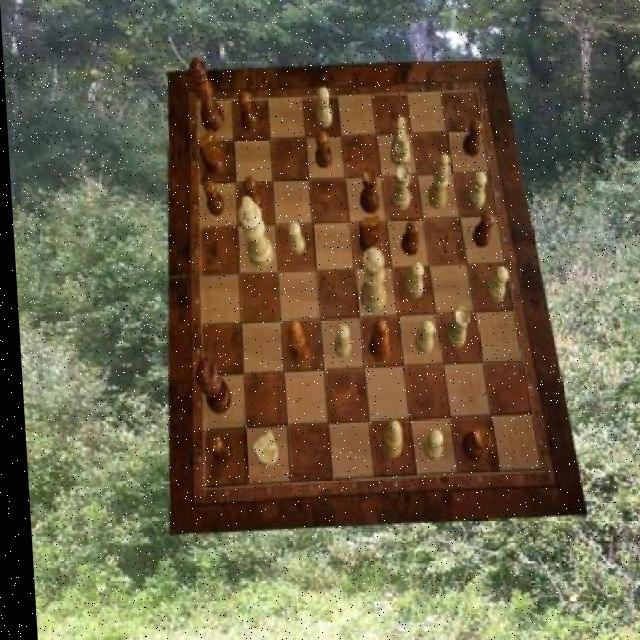bishop: (284, 318, 306, 364), (364, 318, 386, 361)
black-bishop: (191, 357, 227, 415)
black-king: (195, 130, 222, 176), (355, 215, 379, 254)
black-knight: (468, 212, 493, 248), (459, 118, 482, 157), (201, 179, 223, 216), (203, 434, 228, 464), (238, 91, 257, 129), (397, 220, 417, 256), (312, 131, 331, 168), (242, 177, 261, 213)
black-pawn: (187, 59, 224, 133)
black-queen: (457, 426, 488, 462), (356, 168, 377, 214)
black-rook: (424, 154, 450, 210), (375, 420, 398, 458)
white-bishop: (235, 197, 272, 269)
white-king: (387, 117, 408, 168), (248, 429, 274, 467)
white-knight: (482, 268, 507, 302), (401, 262, 423, 299), (465, 171, 487, 208), (410, 319, 433, 353), (417, 429, 439, 462), (314, 88, 331, 128), (329, 323, 348, 358), (284, 222, 303, 256)
white-pawn: (355, 248, 385, 314)
white-queen: (441, 308, 467, 349), (388, 166, 411, 212)
